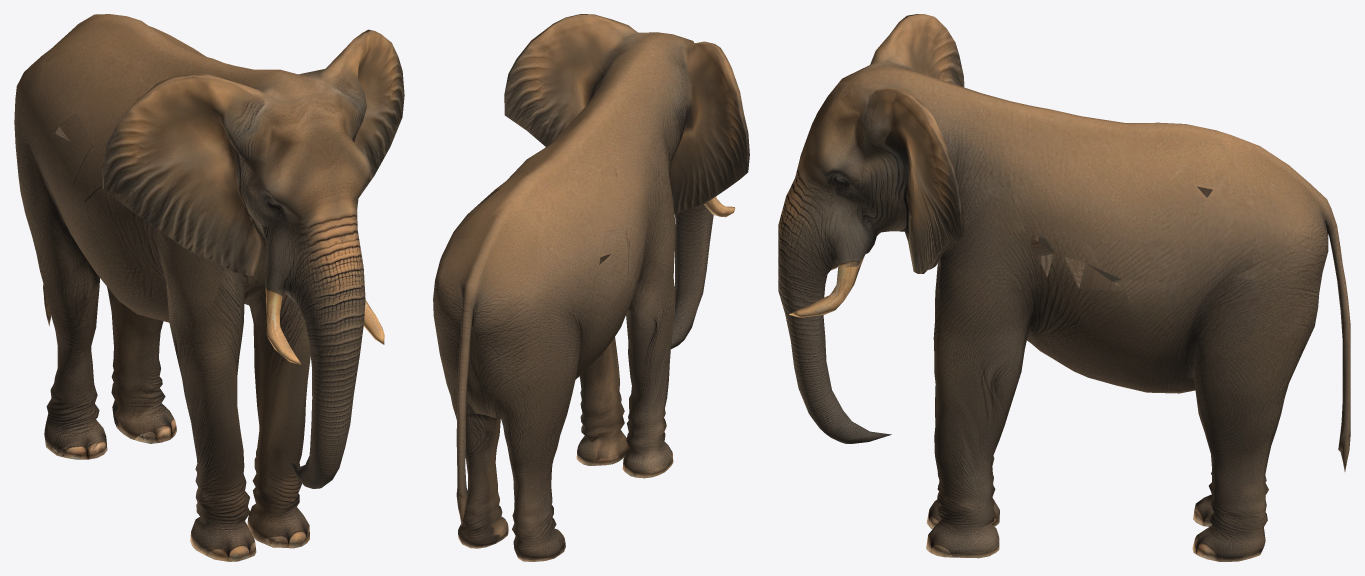
The model's file is african-elephant.glb.
3 views of the same model, side by side, from view 1: azimuth 30°, elevation 25°; view 2: azimuth 150°, elevation 25°; view 3: azimuth 270°, elevation 25° (orthographic). The views are drawn at different scales.
Bounding box in the file's own units: 0.5762 × 0.9258 × 1.
Materials: 1 (1 with a texture image).
